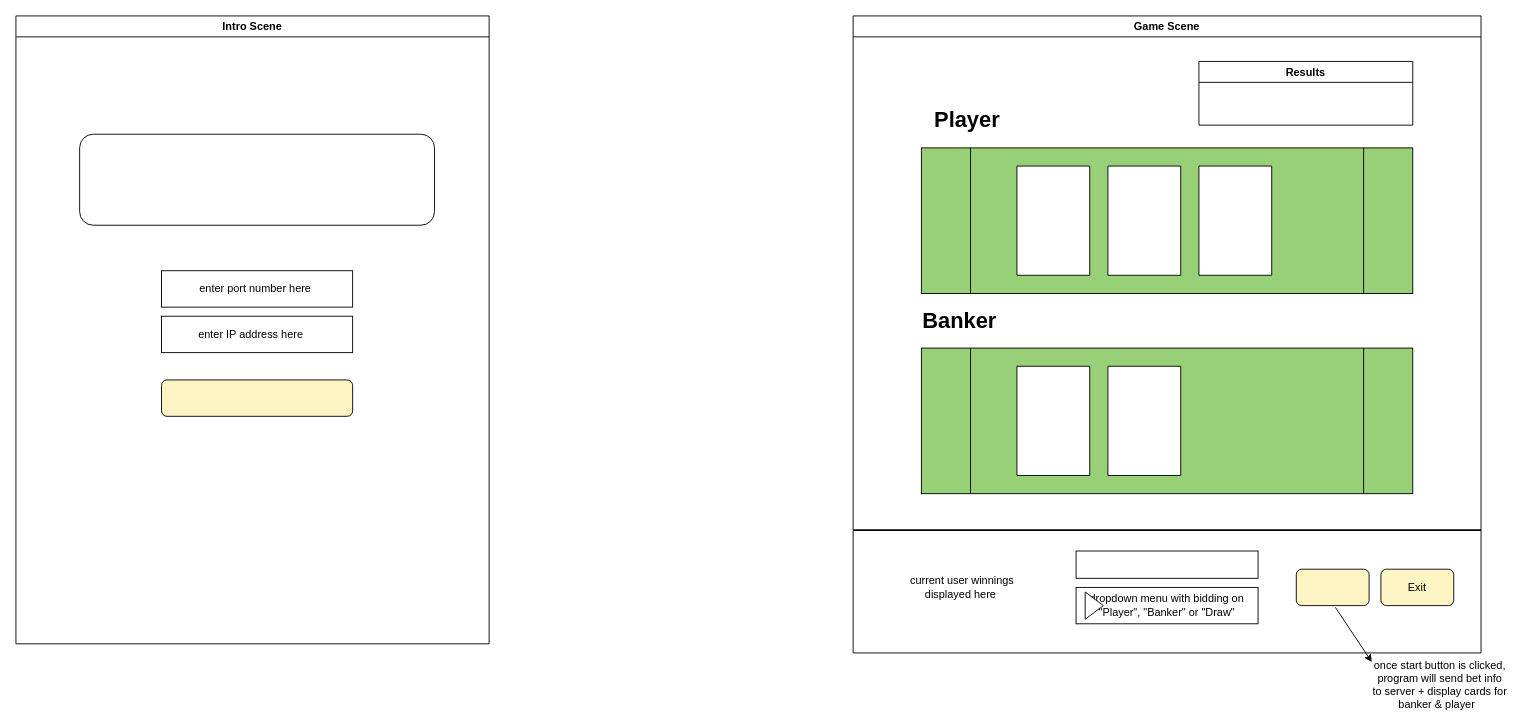
Some shapes in this 1524 by 727 pixel diagram are drawn without their labels. The shapes that lost their labels are listed below. From the top down, each one's centre as x and y in pixels, then its label:
At pixel 257 179: "Welcome to Baccarat!".
At pixel 257 397: "Connect to Server".
At pixel 1166 564: "enter bit amount here".
At pixel 1332 587: "Start".
